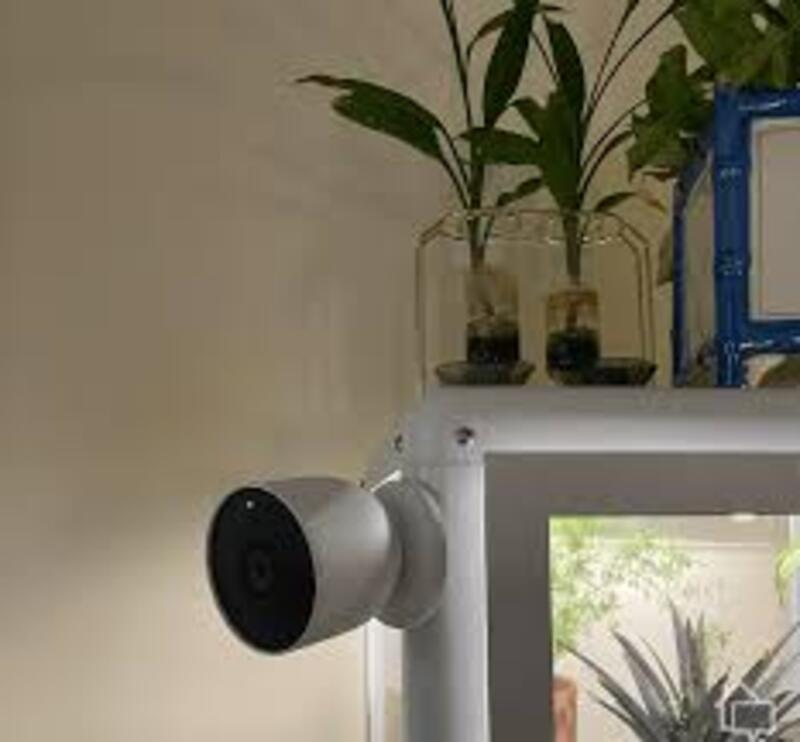nest: (208, 469, 414, 655)
